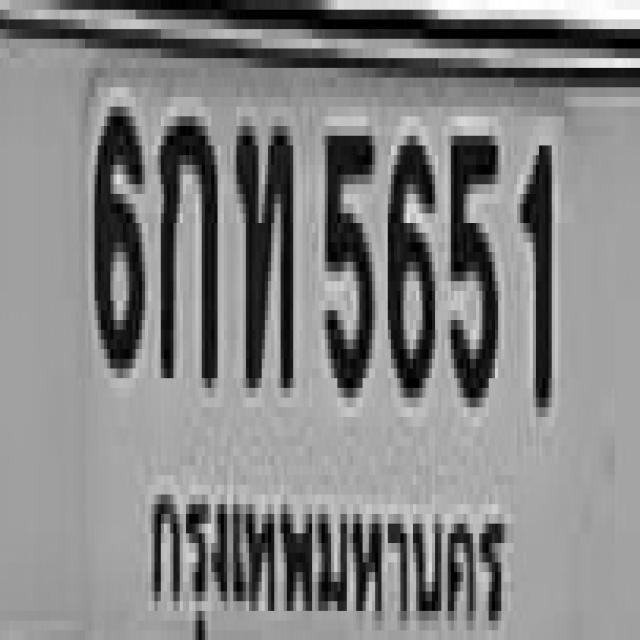1: (517, 131, 549, 402)
10GorGai: (158, 107, 214, 378)
32ThorThaHan: (233, 116, 290, 378)
5: (322, 126, 372, 388), (448, 126, 495, 398)
6: (91, 97, 142, 359), (385, 126, 432, 388)
Bangkok: (137, 452, 511, 640)
